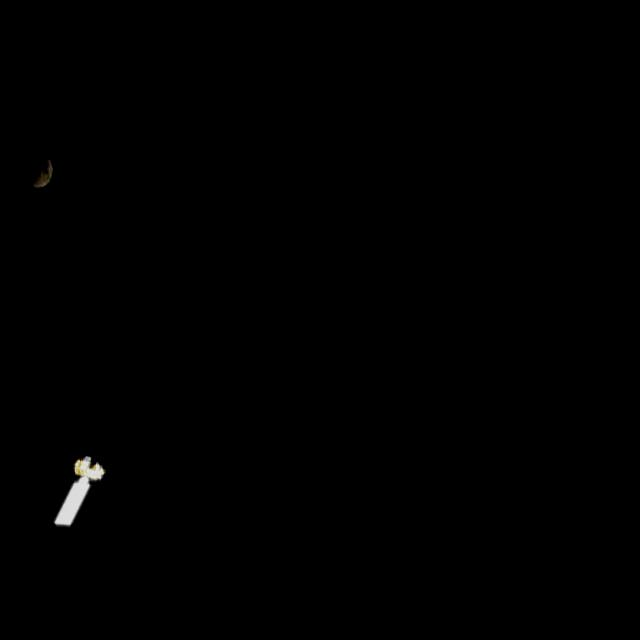satellite: (46, 444, 114, 534)
